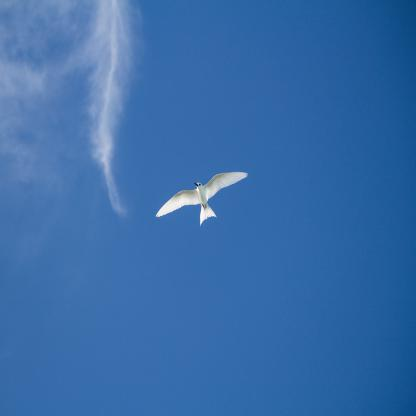bird: (156, 171, 248, 226)
